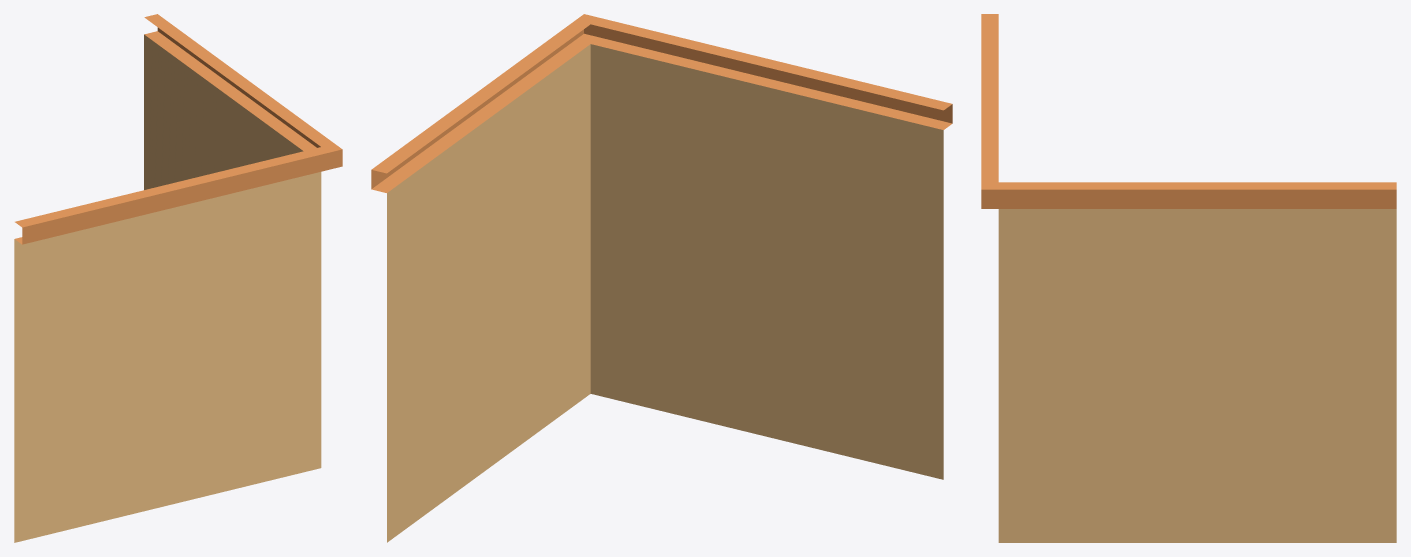
Rendered from WallLedgeCorner.fbx.
3 renders of one model, left to right at view 1: azimuth 30°, elevation 25°; view 2: azimuth 150°, elevation 25°; view 3: azimuth 270°, elevation 25°, orthographic. The views are drawn at different scales.
Visible parts, largest first — view 1: WallLedgeCorner; view 2: WallLedgeCorner; view 3: WallLedgeCorner.
Boxes of the visible parts, bbox=[...] form: WallLedgeCorner: bbox=[14, 14, 342, 542]; WallLedgeCorner: bbox=[371, 14, 952, 542]; WallLedgeCorner: bbox=[981, 14, 1396, 542].
Size of the model in its own units: 209 by 200 by 209.
